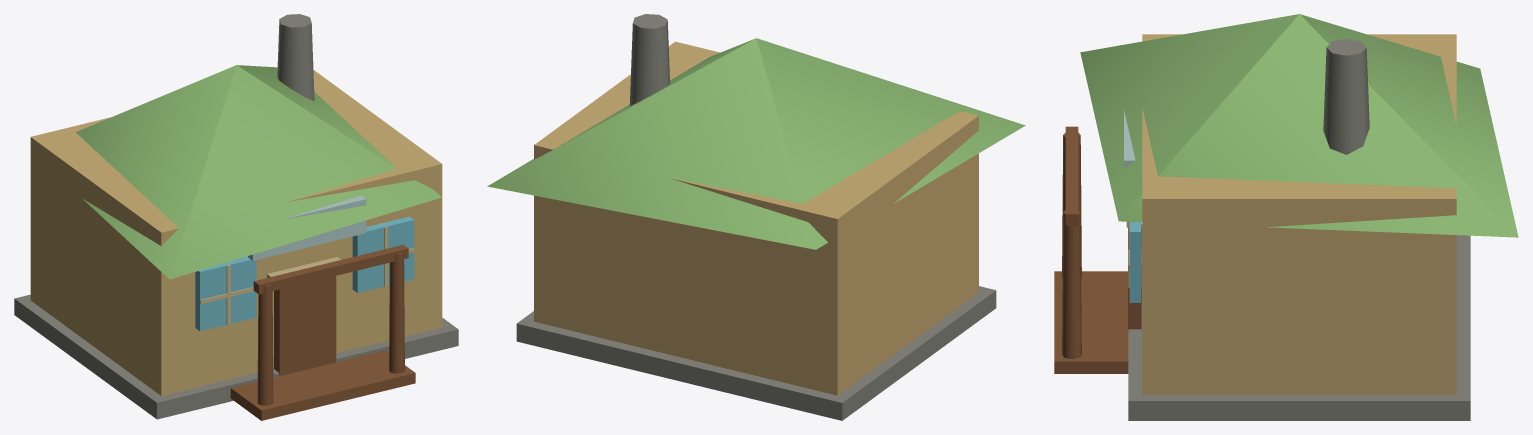
File: general_store.glb
The picture shows the model from 3 angles, left to right: view 1: azimuth 30°, elevation 25°; view 2: azimuth 150°, elevation 25°; view 3: azimuth 270°, elevation 25°; orthographic projection. The views are drawn at different scales.
Visible parts, largest first — view 1: general_store_body, general_store_roof, general_store_foundation, porch, door, window_left, chimney, window_right, porch_beam, porch_post_145, porch_post_-145, sign; view 2: general_store_body, general_store_roof, general_store_foundation, chimney; view 3: general_store_body, general_store_roof, general_store_foundation, porch, chimney, porch_post_145, porch_beam, window_right, porch_post_-145, door.
Boxes of the visible parts, x1=… form: general_store_body: x1=30, y1=70, x2=442, y2=395; general_store_roof: x1=75, y1=65, x2=441, y2=279; general_store_foundation: x1=14, y1=294, x2=458, y2=419; porch: x1=230, y1=350, x2=415, y2=420; door: x1=274, y1=276, x2=336, y2=375; window_left: x1=195, y1=256, x2=256, y2=331; chimney: x1=277, y1=14, x2=314, y2=101; window_right: x1=352, y1=216, x2=414, y2=292; porch_beam: x1=253, y1=244, x2=408, y2=294; porch_post_145: x1=389, y1=252, x2=404, y2=373; porch_post_-145: x1=257, y1=284, x2=273, y2=405; sign: x1=248, y1=195, x2=366, y2=260; general_store_body: x1=534, y1=41, x2=978, y2=395; general_store_roof: x1=487, y1=38, x2=1025, y2=249; general_store_foundation: x1=516, y1=286, x2=996, y2=420; chimney: x1=629, y1=14, x2=669, y2=105; general_store_body: x1=1142, y1=34, x2=1456, y2=394; general_store_roof: x1=1080, y1=14, x2=1518, y2=237; general_store_foundation: x1=1128, y1=224, x2=1470, y2=420; porch: x1=1054, y1=271, x2=1128, y2=373; chimney: x1=1323, y1=39, x2=1369, y2=154; porch_post_145: x1=1062, y1=210, x2=1081, y2=358; porch_beam: x1=1065, y1=126, x2=1078, y2=225; window_right: x1=1129, y1=222, x2=1140, y2=302; porch_post_-145: x1=1062, y1=133, x2=1081, y2=277; door: x1=1128, y1=228, x2=1141, y2=332.
Size of what is drawn, in the model's own units: 6.97 by 5.83 by 7.39.
